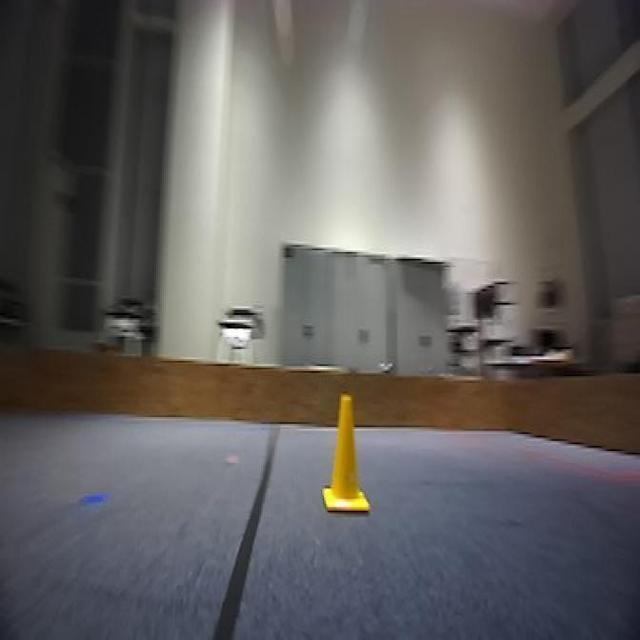frc_cone: (321, 396, 372, 516)
